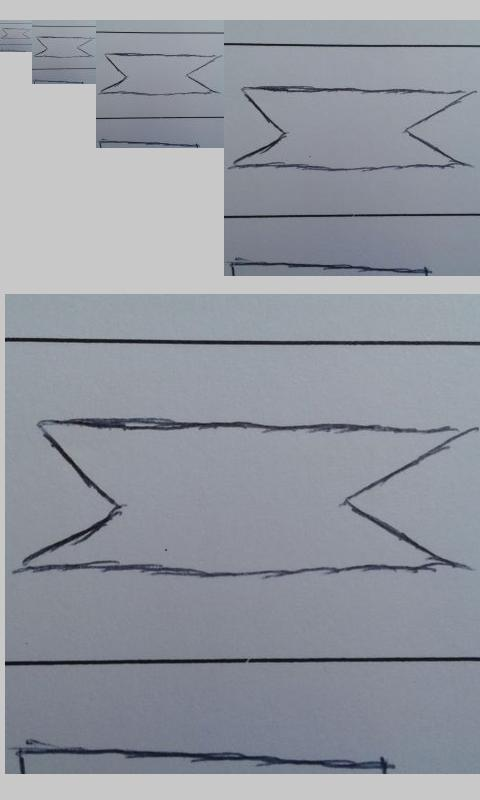edit_text: (20, 417, 468, 579), (233, 85, 470, 173), (99, 52, 219, 96), (34, 36, 93, 59), (1, 27, 31, 40)
